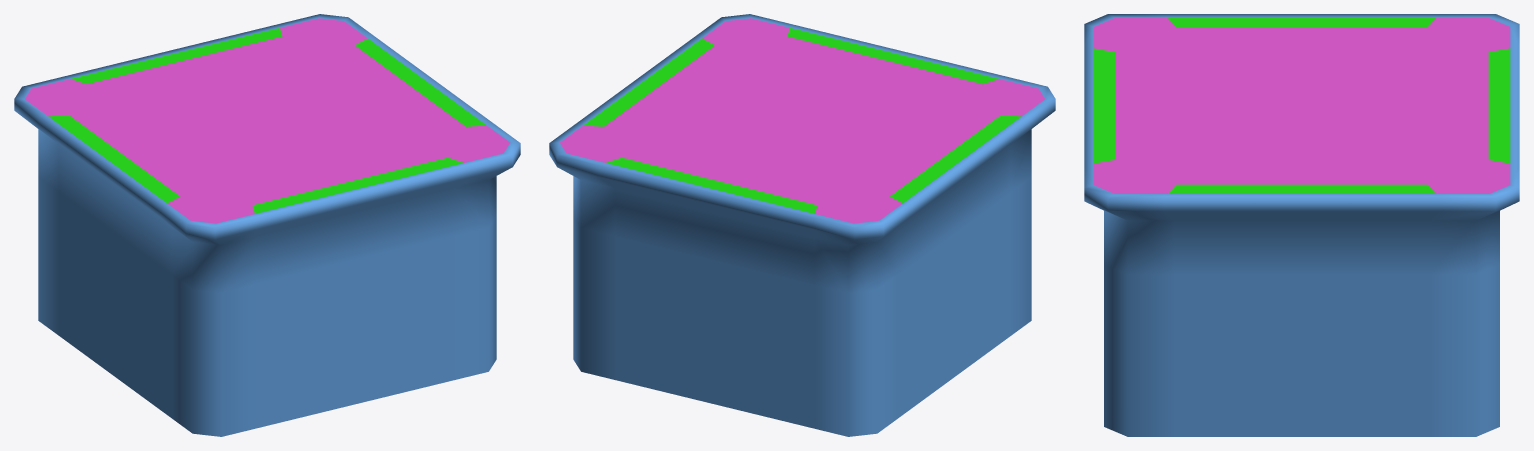
3 views of the same model, side by side, from view 1: azimuth 30°, elevation 25°; view 2: azimuth 150°, elevation 25°; view 3: azimuth 270°, elevation 25° (orthographic). The views are drawn at different scales.
Visible parts, largest first — view 1: GEO.PLATFORM_low; view 2: GEO.PLATFORM_low; view 3: GEO.PLATFORM_low.
Boxes of the visible parts, left/top/right/bottom form: GEO.PLATFORM_low: left=14, top=14, right=520, bottom=436; GEO.PLATFORM_low: left=549, top=14, right=1055, bottom=436; GEO.PLATFORM_low: left=1084, top=14, right=1519, bottom=436.
Bounding box in the file's own units: 30 × 18.8 × 30.
